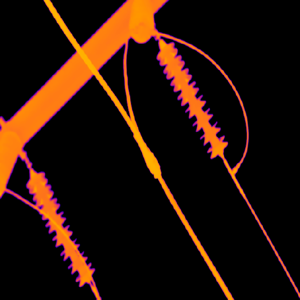insulator: (157, 38, 228, 159), (26, 166, 94, 288)
